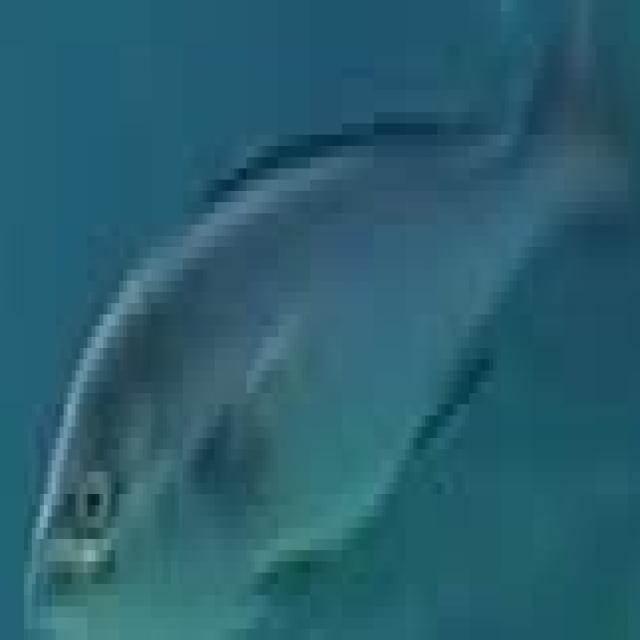fish: (0, 11, 636, 640)
